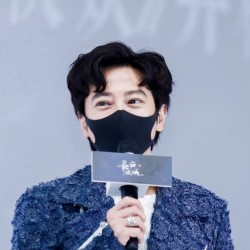mask: (82, 103, 156, 161)
